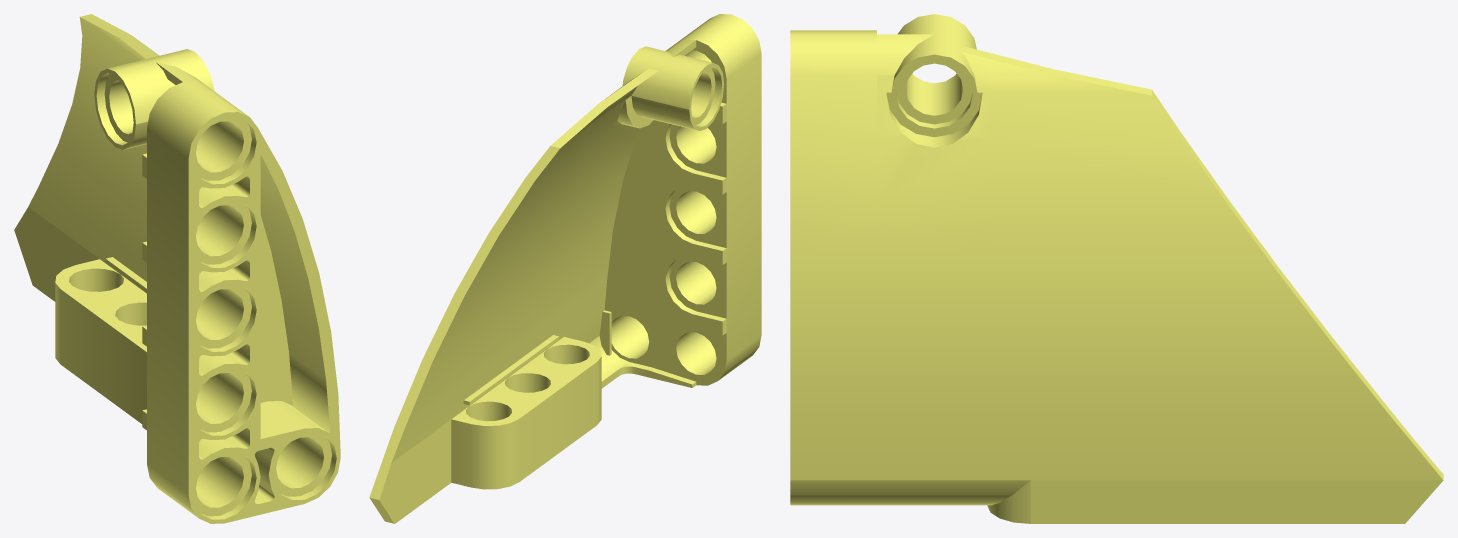
The picture shows the model from 3 angles, left to right: view 1: azimuth 30°, elevation 25°; view 2: azimuth 150°, elevation 25°; view 3: azimuth 270°, elevation 25°; orthographic projection. The views are drawn at different scales.
Parts seen in each view (by area): view 1: 64394.dat; view 2: 64394.dat; view 3: 64394.dat.
Boxes of the visible parts, x1,y1,x2,y2 form: 64394.dat: (14,14,340,523); 64394.dat: (369,14,761,523); 64394.dat: (790,14,1443,523).
Bounding box in the file's own units: 0.0156 × 0.0396 × 0.0544.
